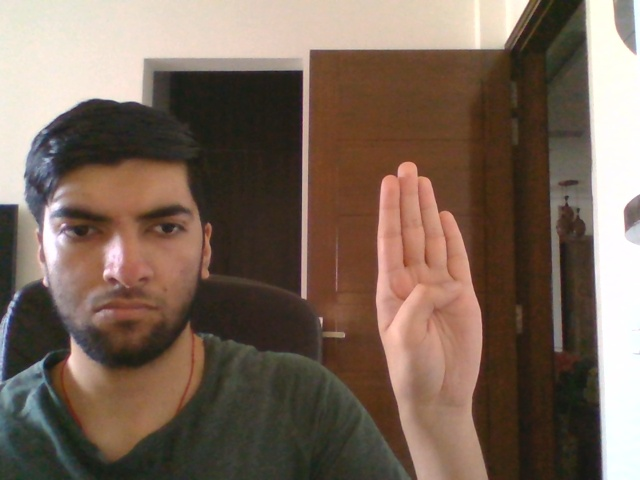LetterB: (375, 161, 483, 413)
